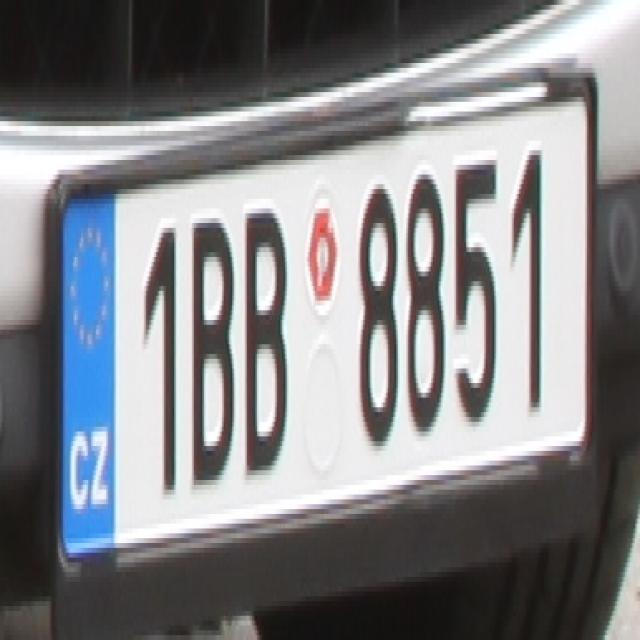1: (141, 223, 177, 490), (511, 146, 542, 412)
5: (451, 155, 497, 422)
8: (356, 175, 399, 446), (405, 165, 446, 431)
B: (186, 208, 237, 485), (241, 194, 290, 480)
